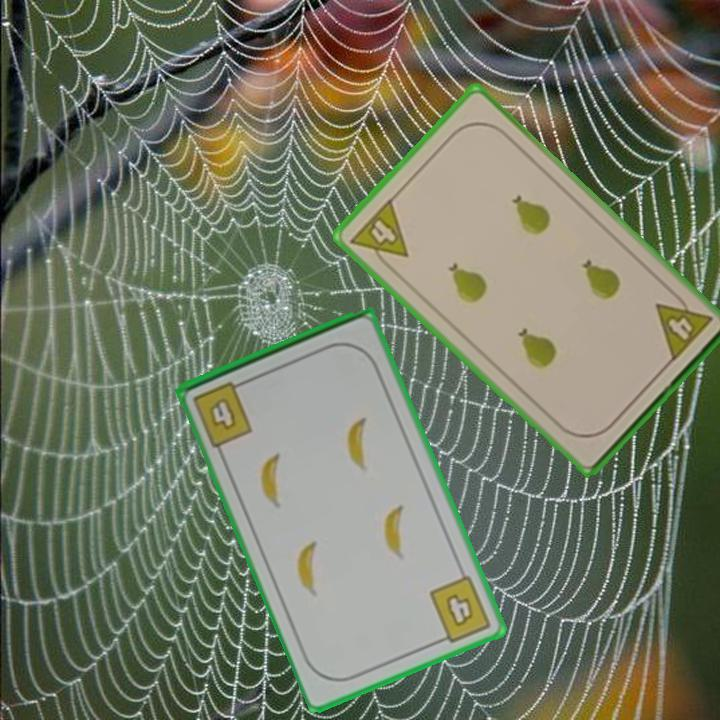4b: (426, 572, 495, 647), (189, 376, 256, 450)
4p: (346, 194, 411, 275), (651, 286, 715, 365)
